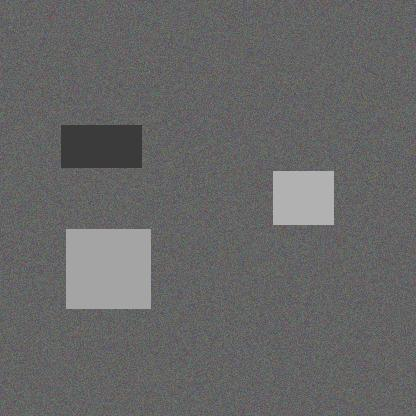occupied: (161, 236, 232, 312), (163, 290, 205, 345)
